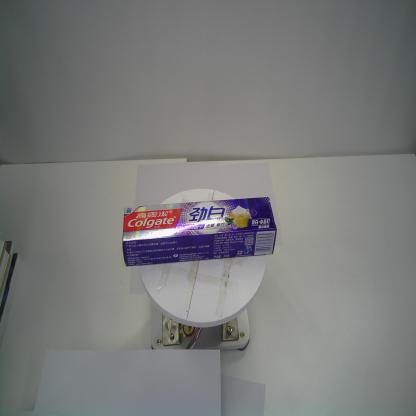Personal Hygiene: (121, 195, 278, 268)
